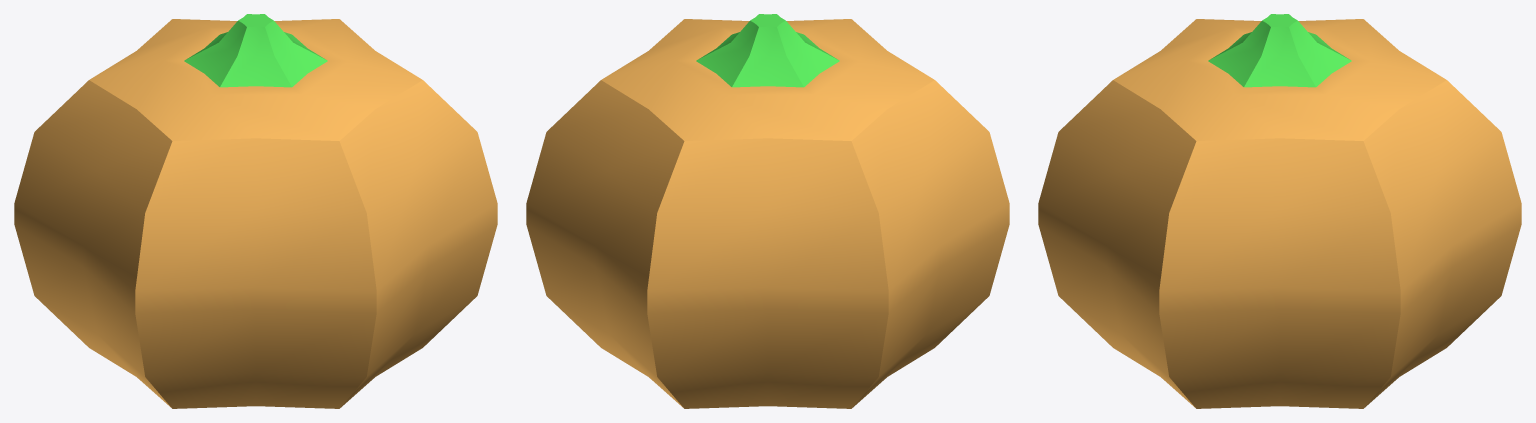
File: Pumpkin.fbx
3 views of the same model, side by side, from view 1: azimuth 30°, elevation 25°; view 2: azimuth 150°, elevation 25°; view 3: azimuth 270°, elevation 25° (orthographic).
Parts seen in each view (by area): view 1: Pumpkin; view 2: Pumpkin; view 3: Pumpkin.
Boxes of the visible parts, x1,y1,x2,y2 form: Pumpkin: (14,14,497,408); Pumpkin: (526,14,1009,408); Pumpkin: (1038,14,1521,408).
Size of the model in its own units: 98.26 by 89.76 by 113.
